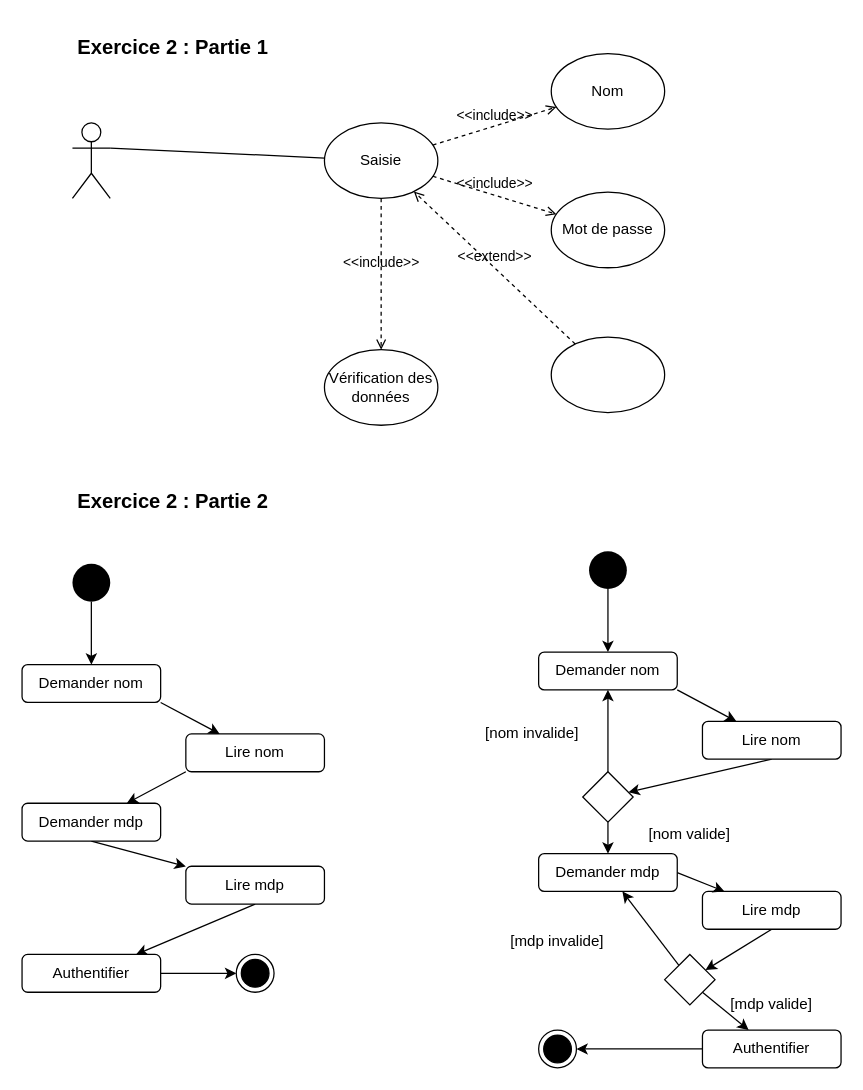
This 863x1090 diagram has some shape labels left out. The centre of each missing label's shape, as x and y in pixels:
"Actor" goes at point 90,160.
"Code" goes at point 607,374.
